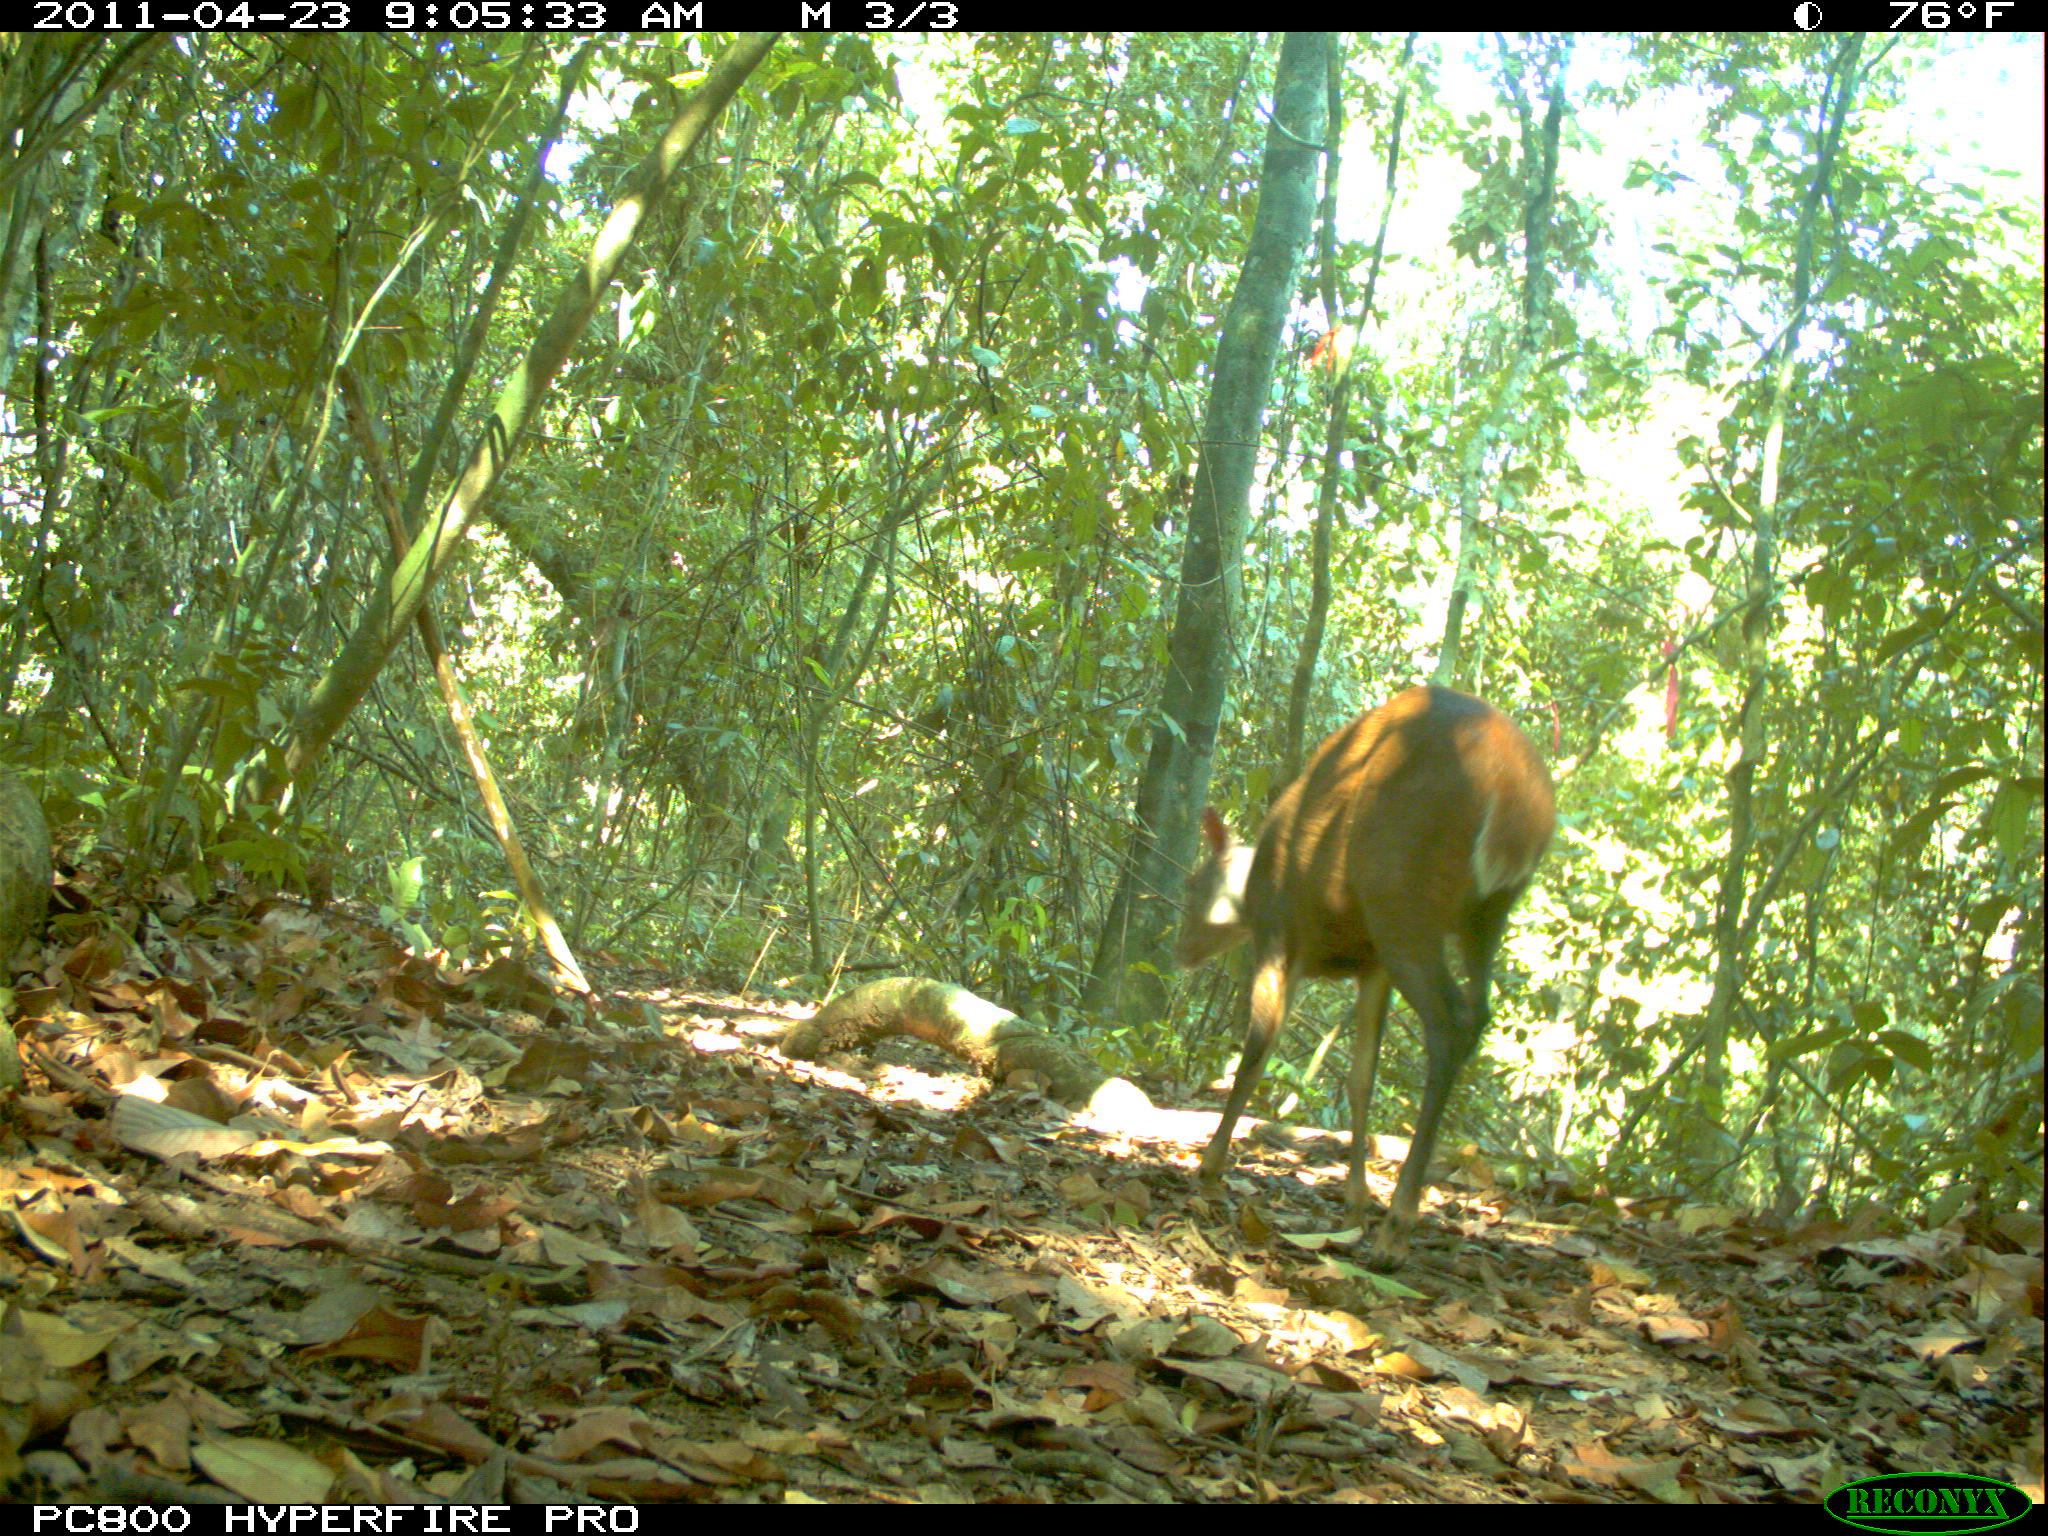Deer: (1155, 679, 1563, 1270)
